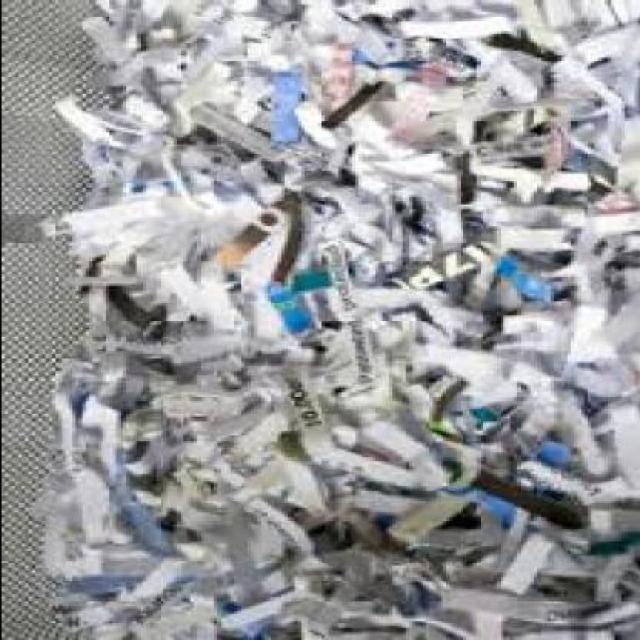PAPER: (25, 1, 637, 638)
